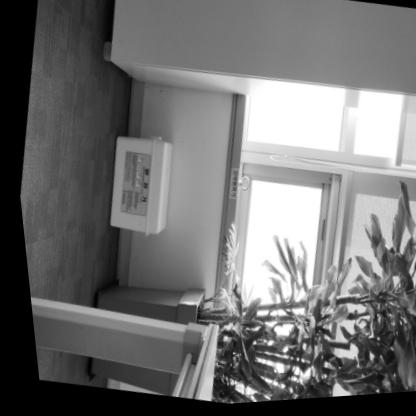DDL: (95, 134, 177, 239)
